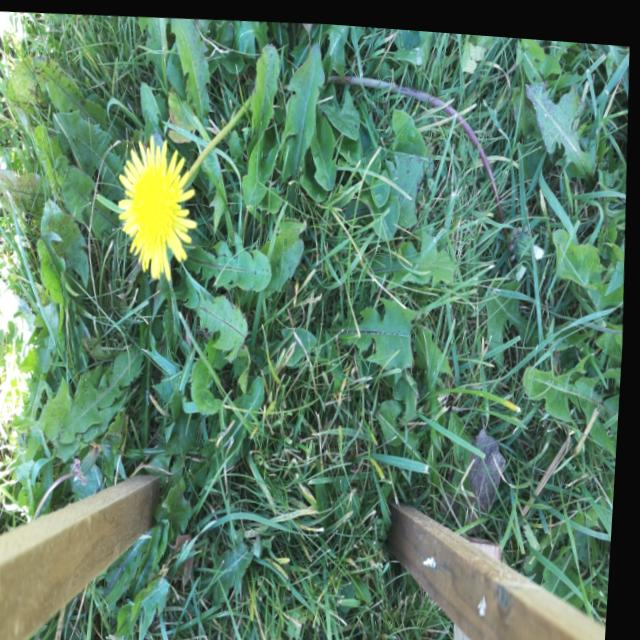base: (320, 51, 345, 95), (238, 79, 258, 111)
